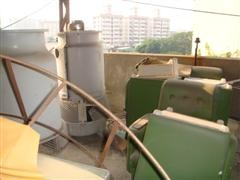water_tower: (1, 26, 64, 153), (57, 20, 109, 140)
